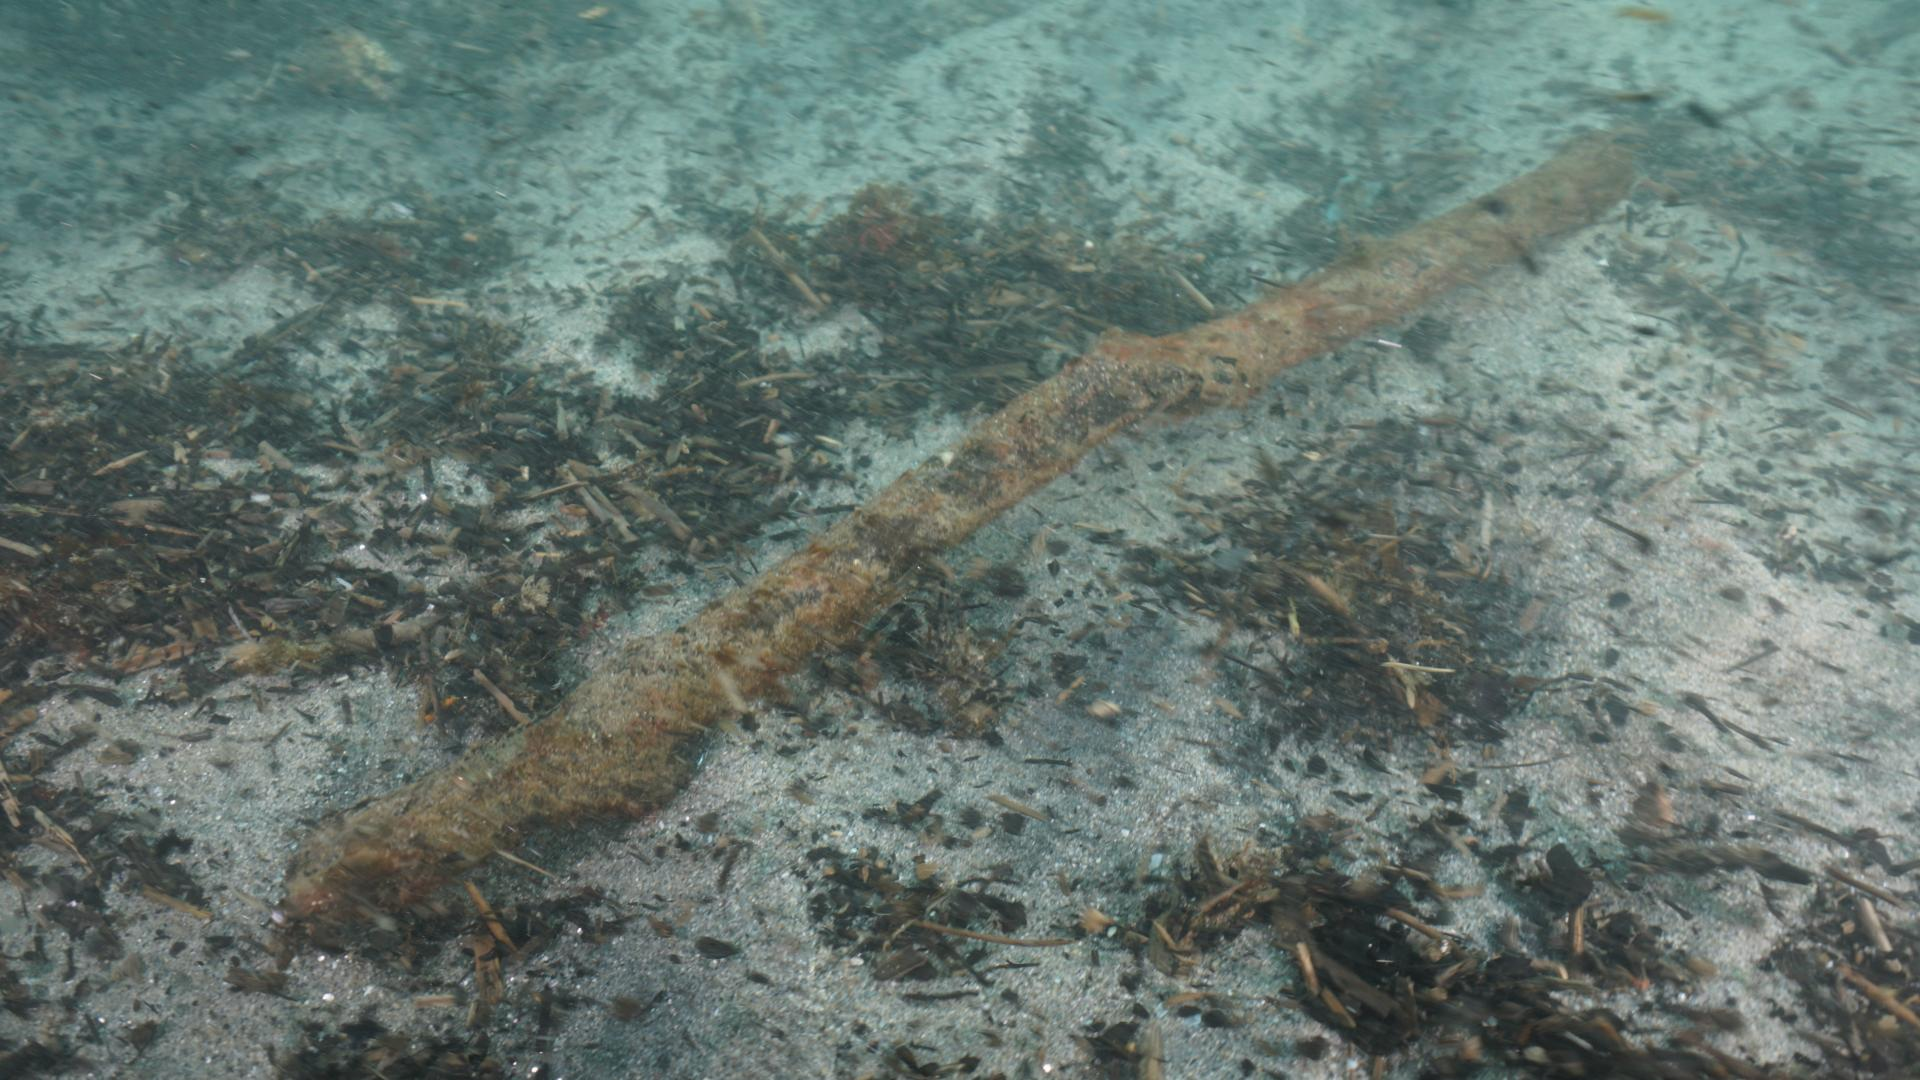wood: (280, 131, 1633, 932)
